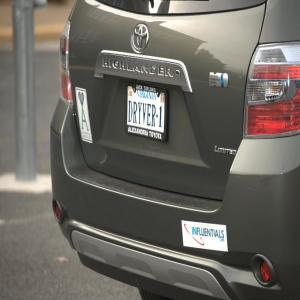Vehicle-registration-plate: (128, 89, 166, 134)
